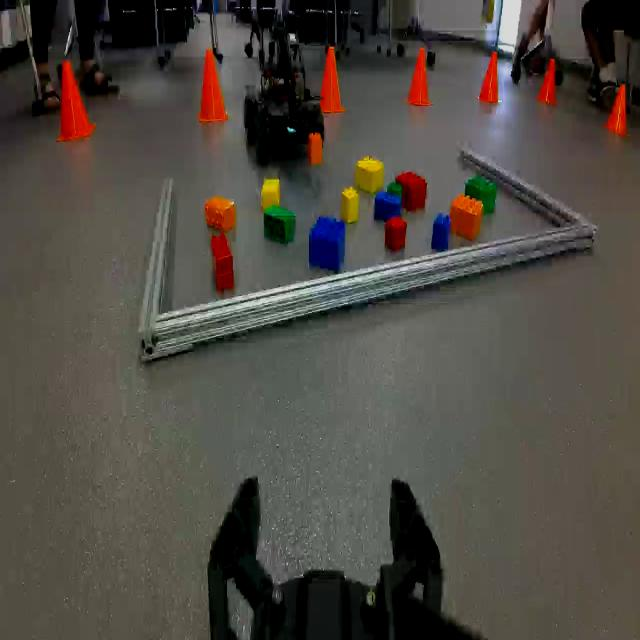block: (354, 154, 386, 194), (340, 186, 360, 224), (260, 176, 280, 208)
blue: (306, 215, 344, 271), (372, 188, 402, 224), (431, 214, 452, 252)
cone: (47, 56, 97, 148), (192, 48, 228, 126), (597, 78, 636, 140), (402, 44, 434, 109), (317, 47, 347, 115), (476, 48, 504, 108), (534, 58, 562, 110), (305, 130, 323, 166)
green: (262, 203, 295, 246), (467, 174, 497, 218), (388, 182, 402, 204)
metal barrier: (138, 140, 598, 369)
orange: (450, 193, 484, 240), (204, 194, 238, 232)
red goal: (210, 229, 234, 294), (398, 170, 428, 212), (387, 217, 407, 250)
robot: (242, 12, 324, 166)
